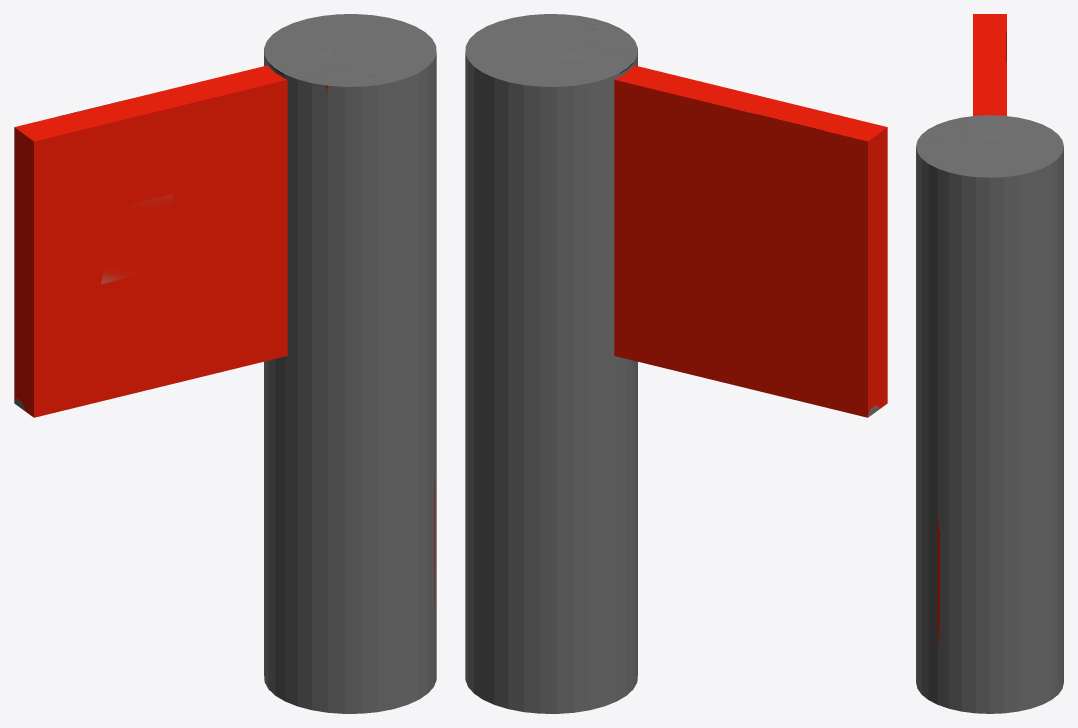
Rendered from SpawnPoint.fbx.
3 renders of one model, left to right at view 1: azimuth 30°, elevation 25°; view 2: azimuth 150°, elevation 25°; view 3: azimuth 270°, elevation 25°, orthographic. The views are drawn at different scales.
Parts seen in each view (by area): view 1: Cylinder; view 2: Cylinder; view 3: Cylinder.
Part boxes in pixels (bbox=[...]): Cylinder: bbox=[14, 14, 436, 713]; Cylinder: bbox=[465, 14, 887, 713]; Cylinder: bbox=[916, 14, 1063, 713].
Size of the model in its own units: 268 by 400 by 100.
1 material, 1 textured.
